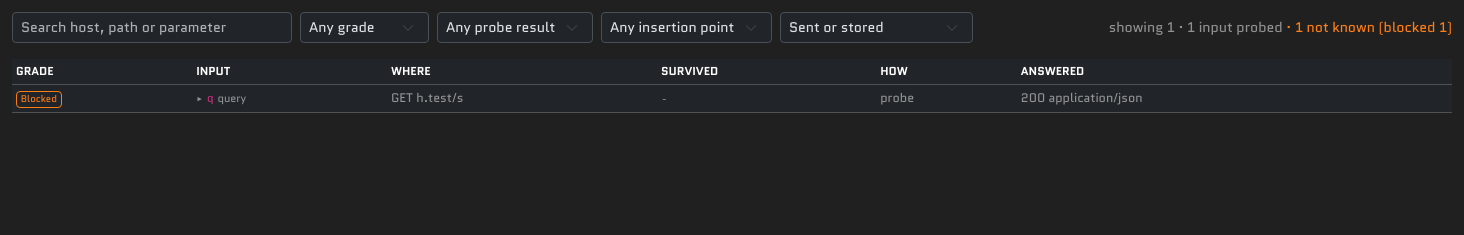
Test case: expanding a row shows the evidence and the reason, and says when no snippet was kept
This screenshot has width=1464, height=235.
Click the row that starts with "Blocked": [732, 99] box [12,85,1452,112]
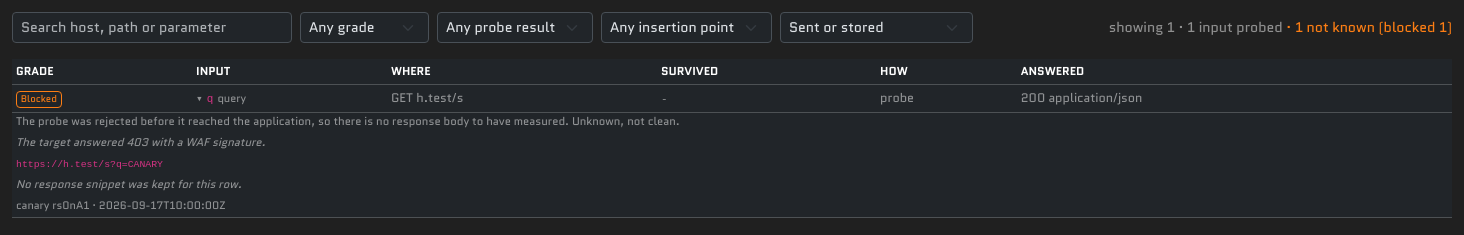
Expected: the text "The target answered 403 with a WAF signature." is shown, [16,134,265,150]
Expected: the text "No response snippet was kept" is shown, [16,176,242,192]
